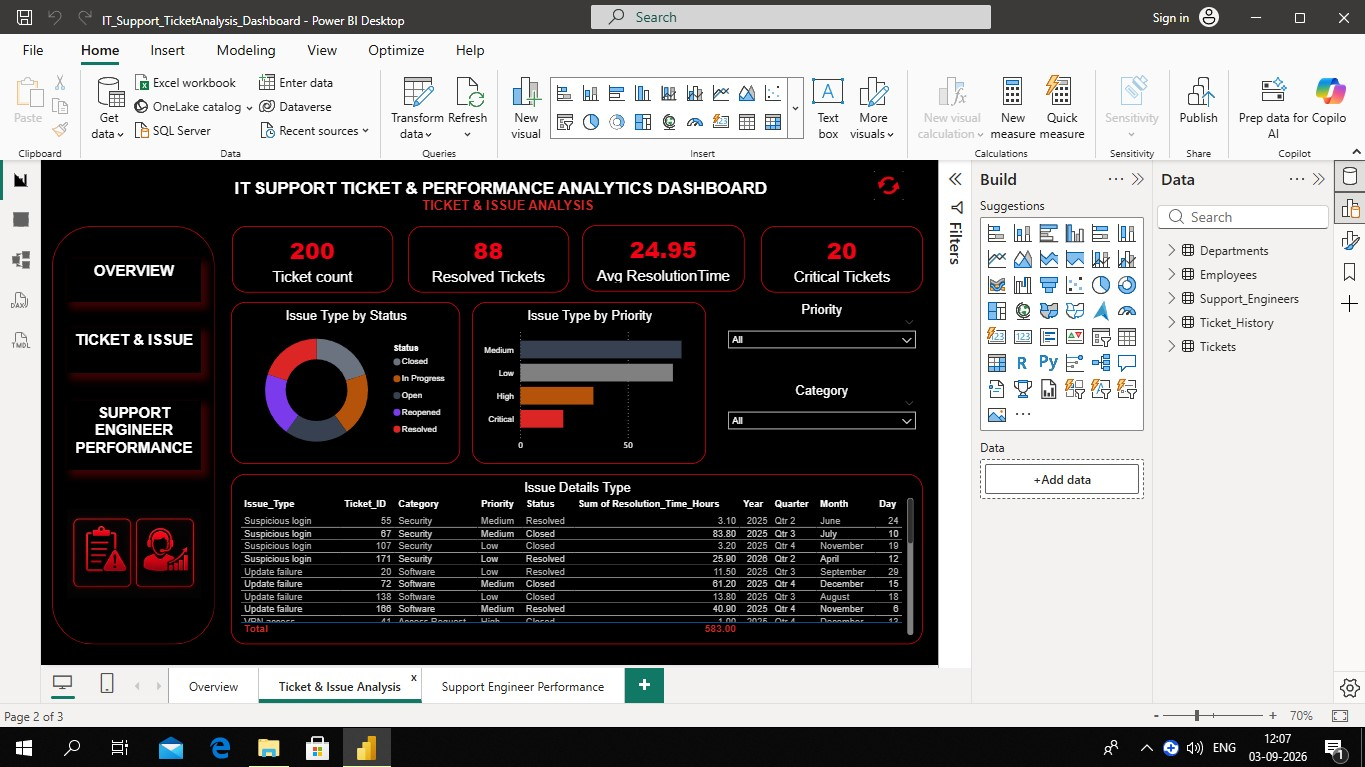

What the dashboard file says about the page in this screenshot:
{"tool":"powerbi","page":{"name":"Ticket & Issue Analysis","canvas":[1280,720],"ordinal":1},"visuals":[{"type":"card","title":"All Time","fields":{"Values":["Departments.Ticket count"]},"box":[272.1,93.5,229.6,95],"z":0},{"type":"card","title":"All Time","fields":{"Values":["Departments.Resolved Tickets"]},"box":[524.4,93.5,229.6,95],"z":1000},{"type":"card","title":"All Time","fields":{"Values":["Departments.Critical Tickets"]},"box":[1027.6,93.5,231,95],"z":2000},{"type":"donutChart","title":"Issue Type by Status","fields":{"Category":["Ticket_History.Status"],"Y":["CountNonNull(Tickets.Issue_Type)"]},"box":[271.7,202,327.2,230.6],"z":3000},{"type":"clusteredBarChart","title":"Issue Type  by Priority","fields":{"Category":["Tickets.Priority"],"Y":["CountNonNull(Tickets.Issue_Type)"]},"box":[615,202,334.3,230.6],"z":4000},{"type":"tableEx","title":" Issue Details Type","fields":{"Values":["Tickets.Issue_Type","Tickets.Ticket_ID","Tickets.Category","Tickets.Priority","Tickets.Status","Sum(Tickets.Resolution_Time_Hours)","Tickets.Created_Date.Variation.Date Hierarchy.Year","Tickets.Created_Date.Variation.Date Hierarchy.Quarter","Tickets.Created_Date.Variation.Date Hierarchy.Month","Tickets.Created_Date.Variation.Date Hierarchy.Day"]},"box":[271.7,448.7,986.8,243.1],"z":5000},{"type":"slicer","title":"Priority","fields":{"Values":["Tickets.Priority"]},"box":[970.7,202,287.8,103.7],"z":6000},{"type":"slicer","title":"Category","fields":{"Values":["Tickets.Category"]},"box":[970.7,318.2,287.8,103.7],"z":7000},{"type":"card","title":"All Time","fields":{"Values":["Departments.Avg ResolutionTime"]},"box":[772.3,93,232.4,94.7],"z":8000},{"type":"textbox","title":"Overview","box":[37.5,141.2,191.3,60.8],"z":9000},{"type":"textbox","title":"Ticket & Issue","box":[37.5,239.6,191.3,64.4],"z":10000},{"type":"textbox","title":"Support Engineer Performace","box":[37.5,343.2,191.3,98.3],"z":11000},{"type":"shape","box":[16.1,94.7,232.4,597.1],"z":12000},{"type":"actionButton","box":[38.3,141.7,190,60],"z":13000},{"type":"actionButton","box":[38.3,240,190,60],"z":14000},{"type":"actionButton","box":[40,340,190,91.7],"z":15000},{"type":"textbox","box":[271.7,21.7,790,71.7],"z":16000},{"type":"image","box":[1181.5,15.7,55.7,41.4],"z":17000},{"type":"actionButton","box":[1179.9,16.1,55.4,39.3],"z":17001},{"type":"image","box":[37.1,476.6,191.2,169.8],"z":17002}]}

Visuals, with their boxes on the page's 1280x720 design canvas (x1, y1, x2, y2). These are canvas units, not pixel positions in the 1365x767 screenshot, which may show the page scaled, cropped or inside an application window:
"All Time" card: box=[272, 94, 502, 188]
"All Time" card: box=[524, 94, 754, 188]
"All Time" card: box=[1028, 94, 1259, 188]
"Issue Type by Status" donutChart: box=[272, 202, 599, 433]
"Issue Type  by Priority" clusteredBarChart: box=[615, 202, 949, 433]
" Issue Details Type" tableEx: box=[272, 449, 1258, 692]
"Priority" slicer: box=[971, 202, 1258, 306]
"Category" slicer: box=[971, 318, 1258, 422]
"All Time" card: box=[772, 93, 1005, 188]
"Overview" textbox: box=[38, 141, 229, 202]
"Ticket & Issue" textbox: box=[38, 240, 229, 304]
"Support Engineer Performace" textbox: box=[38, 343, 229, 442]
shape: box=[16, 95, 248, 692]
actionButton: box=[38, 142, 228, 202]
actionButton: box=[38, 240, 228, 300]
actionButton: box=[40, 340, 230, 432]
textbox: box=[272, 22, 1062, 93]
image: box=[1182, 16, 1237, 57]
actionButton: box=[1180, 16, 1235, 55]
image: box=[37, 477, 228, 646]
